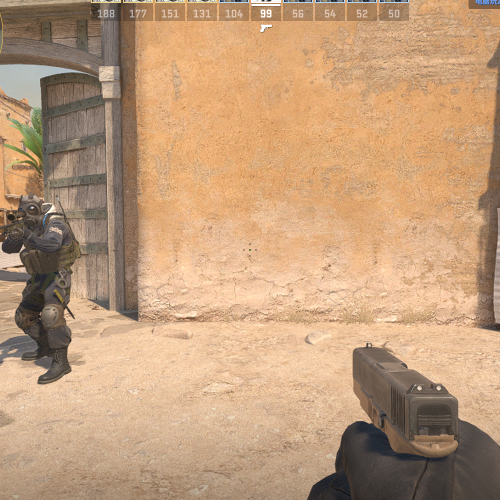ct_body: (2, 193, 79, 385)
ct_head: (17, 193, 43, 223)
